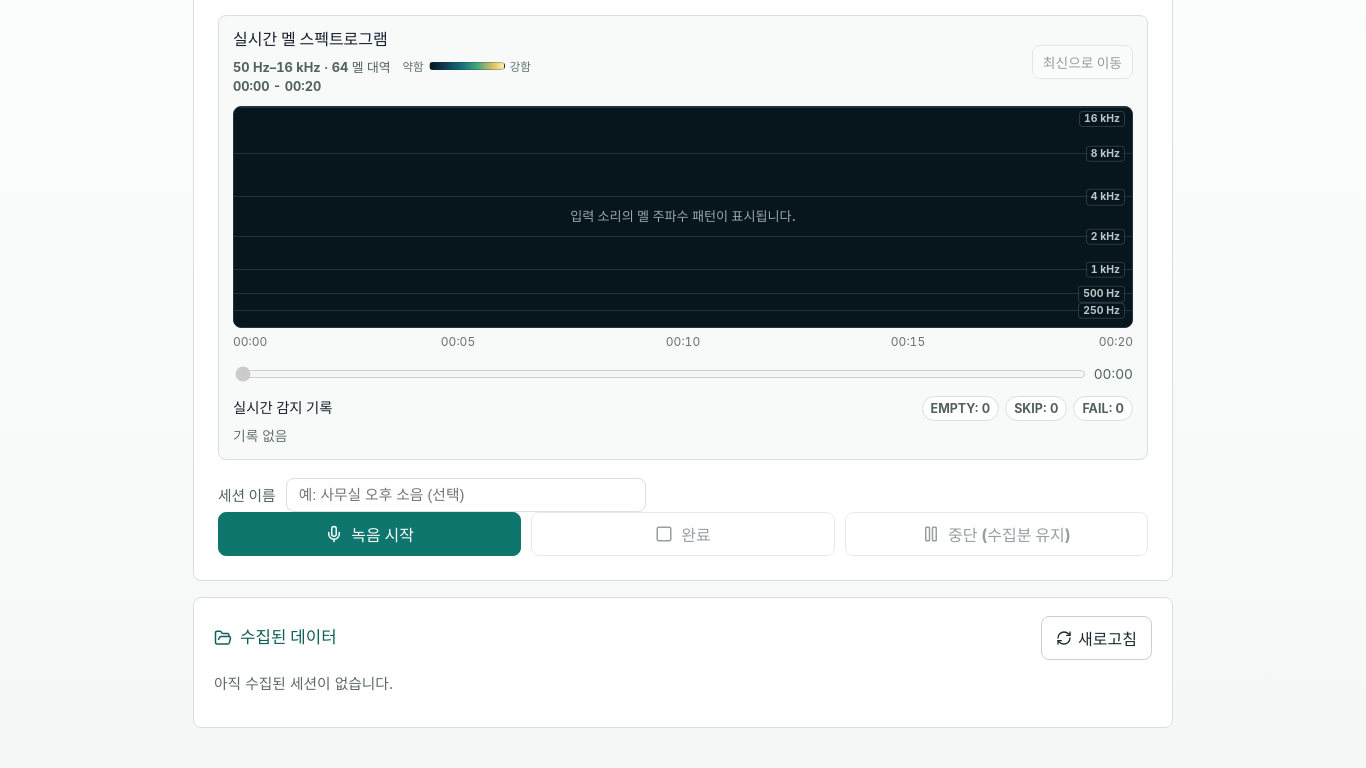
Test case: App › does not enter recording when the audio context closes during capture startup
The width and height of the screenshot is (1366, 768).
(page scrolled)
Click the button "녹음 시작" at [370, 534], box [218,512,521,556]
(page scrolled)
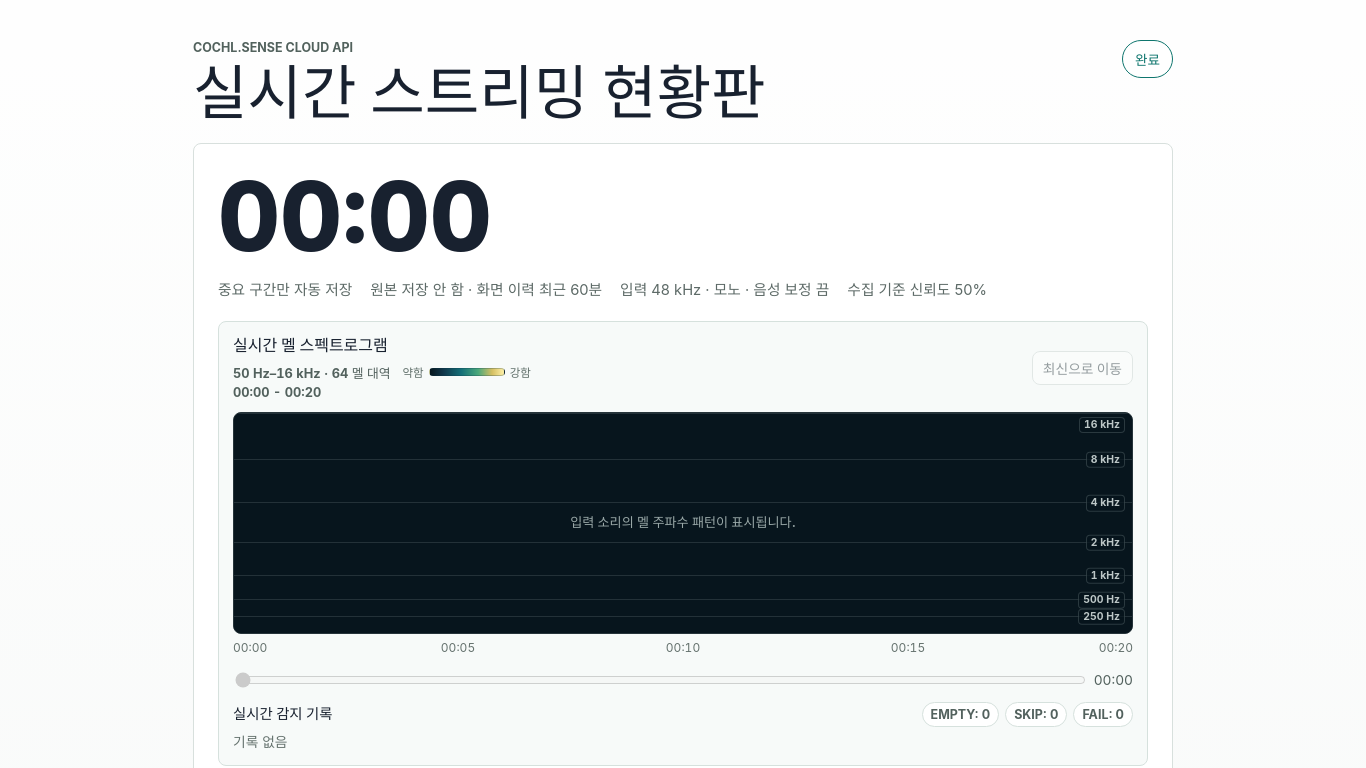
Expected: the text "완료" is shown, [1122,40,1173,78]
